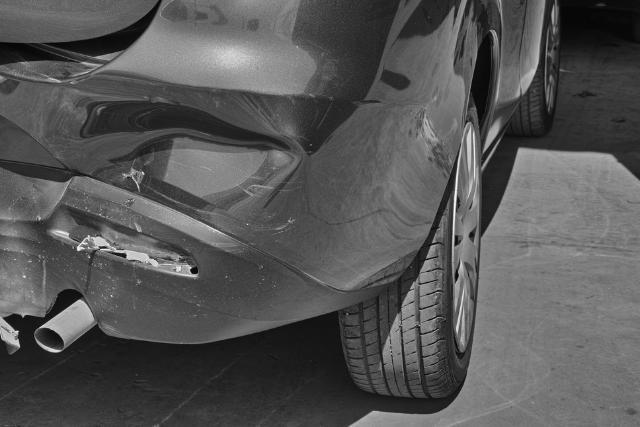Bumper: (0, 62, 442, 327)
